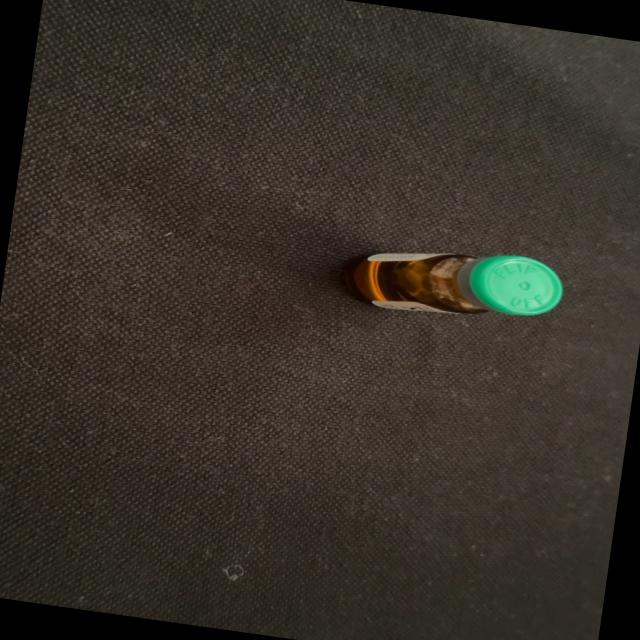midazolm: (344, 234, 562, 330)
